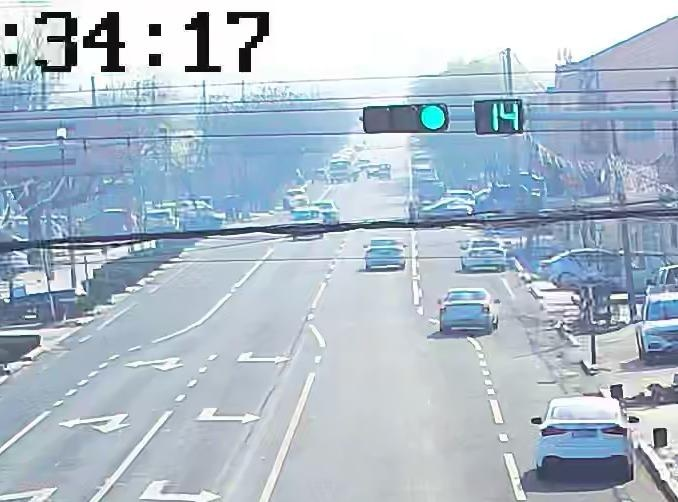green: (417, 105, 449, 131)
greentime: (487, 98, 524, 133)
